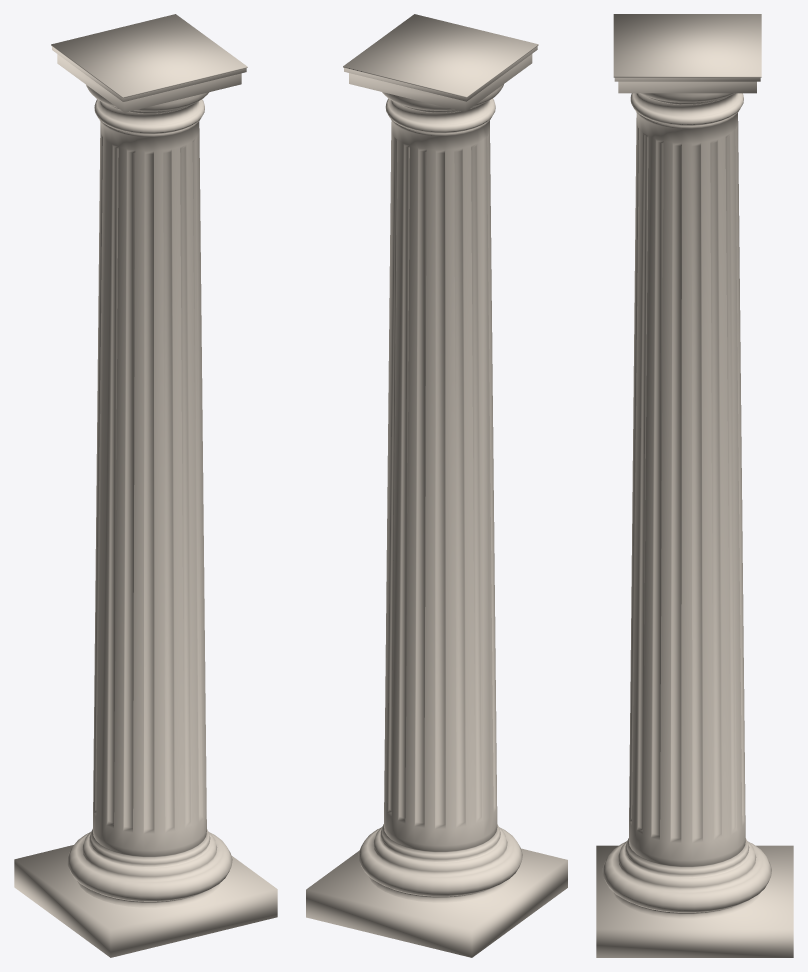
File: RomanColumn.glb
3 views of the same model, side by side, from view 1: azimuth 30°, elevation 25°; view 2: azimuth 150°, elevation 25°; view 3: azimuth 270°, elevation 25° (orthographic). The views are drawn at different scales.
Parts seen in each view (by area): view 1: columna; view 2: columna; view 3: columna.
Boxes of the visible parts, x1=… form: columna: x1=14, y1=14, x2=277, y2=957; columna: x1=306, y1=14, x2=567, y2=957; columna: x1=596, y1=14, x2=793, y2=957.
Size of the model in its own units: 16.7 by 81.23 by 16.7.
